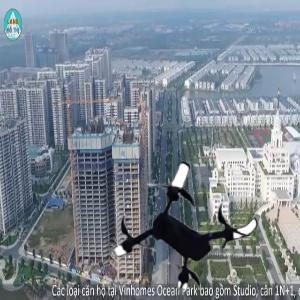drone: (112, 150, 262, 300)
